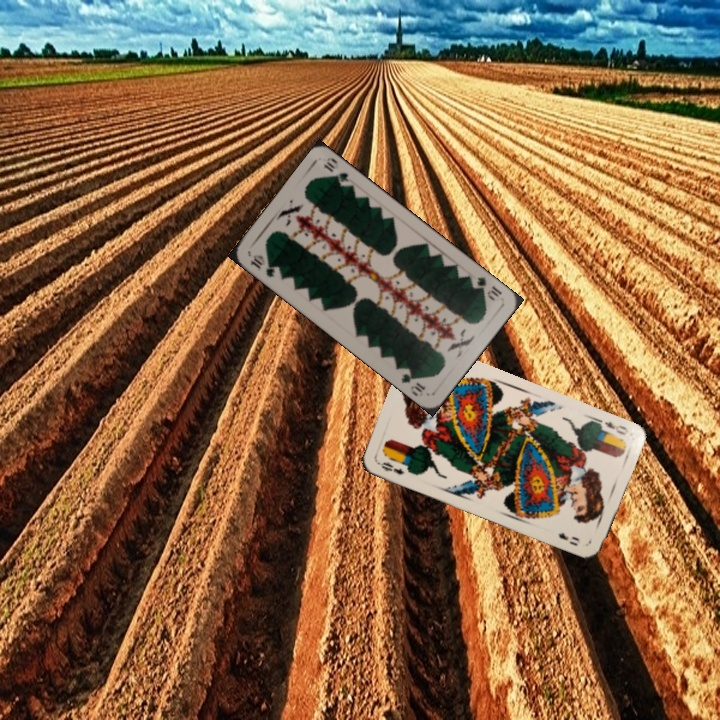EO: (593, 415, 631, 438), (374, 457, 407, 477)
G10: (246, 251, 284, 280), (472, 273, 505, 303)
